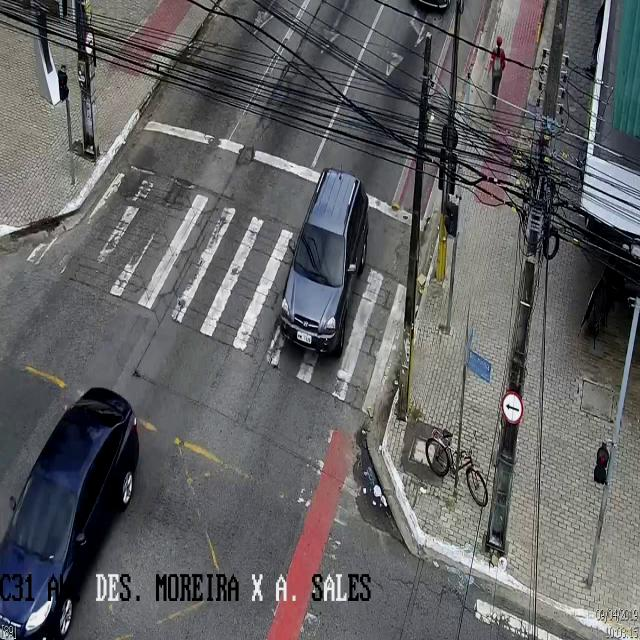Car: (1, 389, 139, 639), (282, 169, 366, 358)
